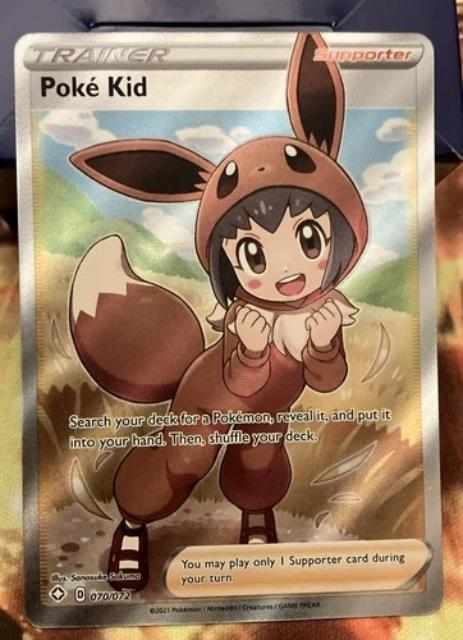Card: (9, 28, 450, 632)
Name: (32, 70, 156, 103)
